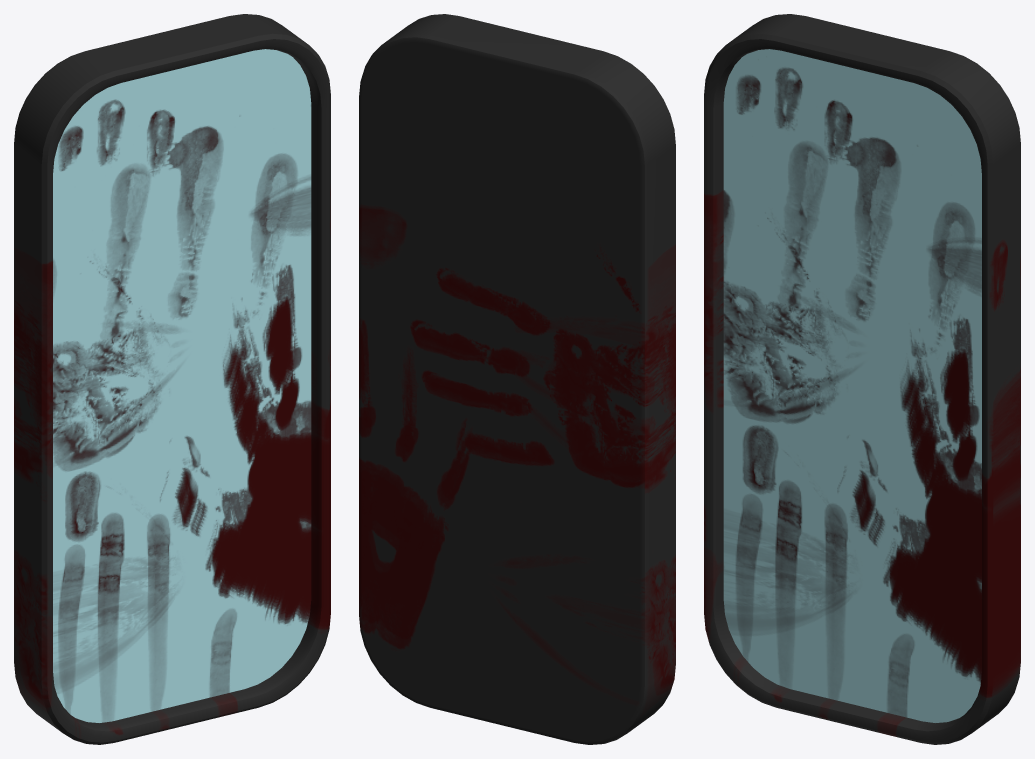
Rendered from cellphone.fbx.
The picture shows the model from 3 angles, left to right: view 1: azimuth 30°, elevation 25°; view 2: azimuth 150°, elevation 25°; view 3: azimuth 330°, elevation 25°; orthographic projection.
Parts seen in each view (by area): view 1: pCube1; view 2: pCube1; view 3: pCube1.
Part boxes in pixels (x1=…): pCube1: x1=14, y1=14, x2=330, y2=744; pCube1: x1=359, y1=14, x2=675, y2=744; pCube1: x1=704, y1=14, x2=1020, y2=744.
Size of the model in its own units: 20.82 by 46.25 by 4.03.
1 material, 1 textured.
